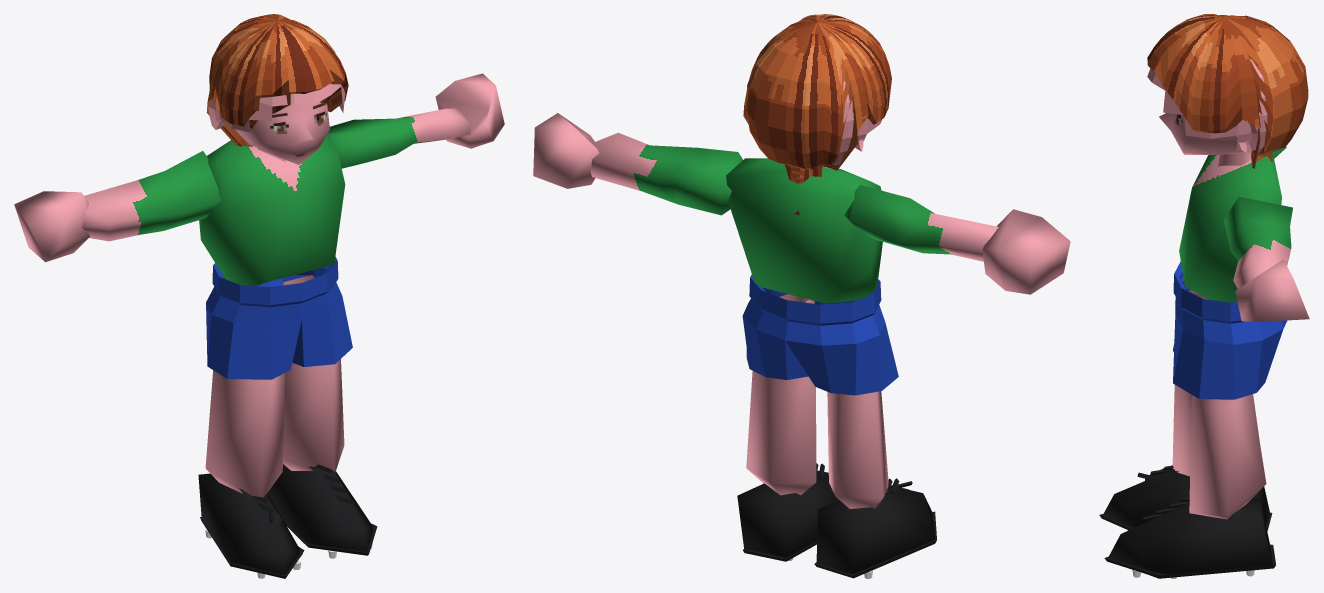
Rendered from 07-mullet_ruivo.glb.
3 renders of one model, left to right at view 1: azimuth 30°, elevation 25°; view 2: azimuth 150°, elevation 25°; view 3: azimuth 270°, elevation 25°, orthographic. The views are drawn at different scales.
Visible parts, largest first — view 1: Camisa_Tronco, Bermuda, Cabelo, Perna.R, Braco.R, Perna.L, Chuteira.R, Chuteira.L, Braco.L, Mao.R, Cabeca, Mao.L (+3 smaller); view 2: Cabelo, Camisa_Tronco, Bermuda, Perna.L, Braco.L, Chuteira.R, Perna.R, Braco.R, Mao.R, Chuteira.L, Mao.L, Couro_Cabeludo (+1 smaller); view 3: Cabelo, Bermuda, Chuteira.L, Camisa_Tronco, Perna.L, Braco.L, Mao.L, Chuteira.R, Perna.R, Couro_Cabeludo, Cabeca, Chuteira_Sola.L (+3 smaller).
Part boxes in pixels (box(x1,y1,x2,y2)): Camisa_Tronco: box(199, 136, 345, 285); Bermuda: box(206, 256, 352, 379); Cabelo: box(206, 14, 348, 146); Perna.R: box(205, 370, 284, 501); Braco.R: box(82, 151, 221, 241); Perna.L: box(283, 274, 344, 472); Chuteira.R: box(198, 473, 302, 574); Chuteira.L: box(267, 464, 373, 551); Braco.L: box(326, 108, 471, 168); Mao.R: box(14, 191, 89, 262); Cabeca: box(235, 102, 329, 164); Mao.L: box(435, 73, 504, 148); Cabelo: box(743, 14, 891, 215); Camisa_Tronco: box(726, 158, 882, 303); Bermuda: box(742, 274, 898, 395); Perna.L: box(746, 294, 816, 495); Braco.L: box(590, 132, 742, 215); Chuteira.R: box(816, 485, 934, 573); Perna.R: box(827, 391, 888, 508); Braco.R: box(844, 185, 998, 261); Mao.R: box(982, 209, 1070, 294); Chuteira.L: box(737, 470, 838, 557); Mao.L: box(533, 113, 599, 188); Couro_Cabeludo: box(824, 81, 882, 164); Cabelo: box(1147, 14, 1308, 168); Bermuda: box(1173, 261, 1287, 399); Chuteira.L: box(1108, 498, 1273, 578); Camisa_Tronco: box(1179, 152, 1281, 302); Perna.L: box(1189, 394, 1266, 519); Braco.L: box(1224, 196, 1292, 288); Mao.L: box(1235, 259, 1309, 321); Chuteira.R: box(1103, 469, 1269, 527); Perna.R: box(1172, 290, 1259, 476); Couro_Cabeludo: box(1147, 59, 1267, 155); Cabeca: box(1159, 113, 1251, 154); Chuteira_Sola.L: box(1104, 544, 1275, 578).
Size of the model in its own units: 0.4523 by 0.4529 by 0.1617.
3 materials, 3 textured.
